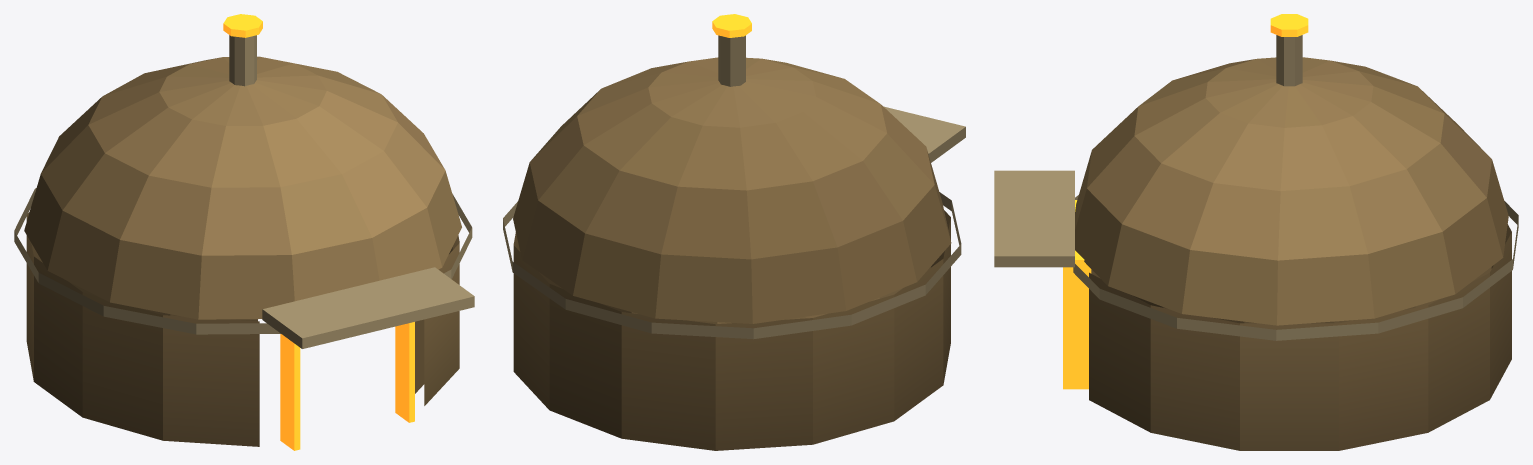
Rendered from shaddai_dist_desert_home_a_v01.glb.
3 renders of one model, left to right at view 1: azimuth 30°, elevation 25°; view 2: azimuth 150°, elevation 25°; view 3: azimuth 270°, elevation 25°, orthographic.
Parts seen in each view (by area): view 1: shaddai_dist_desert_home_a; view 2: shaddai_dist_desert_home_a; view 3: shaddai_dist_desert_home_a.
Boxes of the visible parts, x1,y1,x2,y2 form: shaddai_dist_desert_home_a: (14,14,474,450); shaddai_dist_desert_home_a: (503,14,965,450); shaddai_dist_desert_home_a: (994,14,1518,450).
Bounding box in the file's own units: 11.48 × 9.2 × 12.97.
